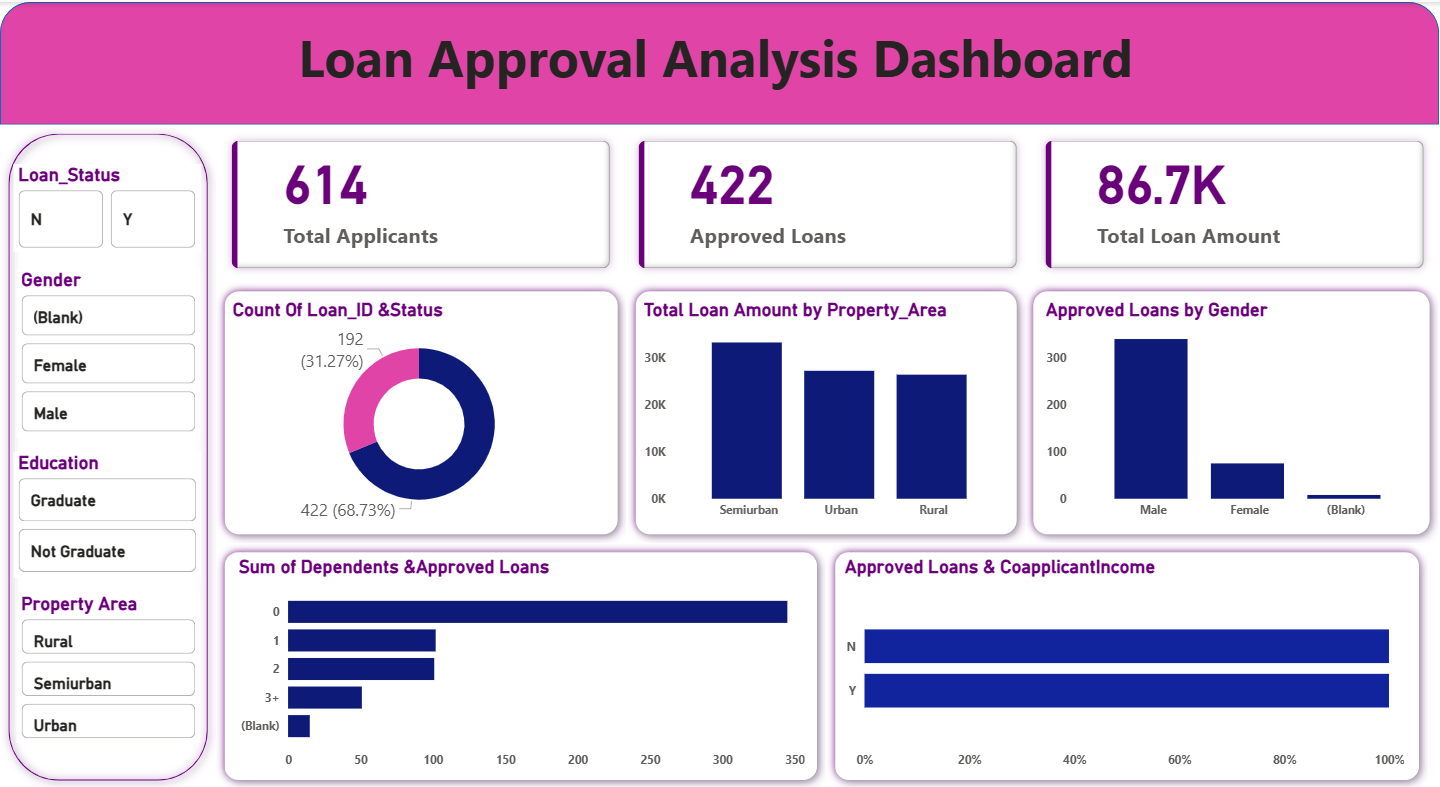

Layout of this report page (visuals, bound fields, positions):
{"tool":"powerbi","page":{"name":"Page 1","canvas":[1500,820],"ordinal":0},"visuals":[{"type":"cardVisual","fields":{"Data":["public train.Total Applicants","public train.Approved Loans","public train.Total Loan Amount"]},"box":[225.4,127.8,1274.1,165],"z":0},{"type":"shape","box":[0,0,1499.4,127.8],"z":1000},{"type":"textbox","box":[35.5,16,1419.6,94],"z":2000},{"type":"shape","box":[225.4,292.8,427.6,271.5],"z":3000},{"type":"donutChart","title":"Count Of Loan_ID &Status","fields":{"Category":["public train.Loan_Status"],"Y":["CountNonNull(public train.Loan_ID)"]},"box":[237.8,308.8,397.5,237.8],"z":4000},{"type":"shape","box":[653,292.8,415.2,271.5],"z":5000},{"type":"shape","box":[1068.2,292.8,431.2,271.5],"z":6000},{"type":"clusteredColumnChart","fields":{"Category":["public train.Gender"],"Y":["public train.Approved Loans"]},"box":[1084.2,308.8,402.8,237.8],"z":7000},{"type":"clusteredColumnChart","fields":{"Category":["public train.Property_Area"],"Y":["public train.Total Loan Amount"]},"box":[665.4,308.8,388.6,237.8],"z":8000},{"type":"shape","box":[0,127.8,225.4,692],"z":9000},{"type":"advancedSlicerVisual","fields":{"Values":["public train.Loan_Status"]},"box":[14.2,168.6,195.2,92.3],"z":10000},{"type":"advancedSlicerVisual","fields":{"Values":["public train.Gender"]},"box":[17.7,278.6,191.6,175.7],"z":11000},{"type":"advancedSlicerVisual","fields":{"Values":["public train.Education"]},"box":[14.2,468.5,195.2,131.3],"z":12000},{"type":"advancedSlicerVisual","title":"Property Area","fields":{"Values":["public train.Property_Area"]},"box":[17.7,615.7,191.6,156.2],"z":13000},{"type":"shape","box":[225.4,564.3,635.3,255.5],"z":14000},{"type":"clusteredBarChart","title":"Sum of Dependents &Approved Loans ","fields":{"Y":["public train.Total Applicants"],"Category":["public train.Dependents"]},"box":[243.1,576.7,599.8,230.7],"z":15000},{"type":"shape","box":[860.6,564.3,626.4,255.5],"z":16000},{"type":"hundredPercentStackedBarChart","title":"Approved Loans & CoapplicantIncome ","fields":{"Y":["public train.Approved Loans","Sum(public train.CoapplicantIncome)"],"Category":["public train.Loan_Status"]},"box":[874.8,576.7,592.7,230.7],"z":17000}]}

Visuals, with their boxes in screenshot pixels (x1, y1, x2, y2), scaled from the page's 1500x820 canvas onto the 1440x787 screenshot:
cardVisual - public train.Total Applicants x public train.Approved Loans: box=[216, 123, 1439, 281]
shape: box=[0, 0, 1439, 123]
textbox: box=[34, 15, 1397, 106]
shape: box=[216, 281, 627, 542]
"Count Of Loan_ID &Status" donutChart: box=[228, 296, 610, 525]
shape: box=[627, 281, 1025, 542]
shape: box=[1025, 281, 1439, 542]
clusteredColumnChart - public train.Gender x public train.Approved Loans: box=[1041, 296, 1428, 525]
clusteredColumnChart - public train.Property_Area x public train.Total Loan Amount: box=[639, 296, 1012, 525]
shape: box=[0, 123, 216, 786]
advancedSlicerVisual - public train.Loan_Status: box=[14, 162, 201, 250]
advancedSlicerVisual - public train.Gender: box=[17, 267, 201, 436]
advancedSlicerVisual - public train.Education: box=[14, 450, 201, 576]
"Property Area" advancedSlicerVisual: box=[17, 591, 201, 741]
shape: box=[216, 542, 826, 786]
"Sum of Dependents &Approved Loans " clusteredBarChart: box=[233, 553, 809, 775]
shape: box=[826, 542, 1428, 786]
"Approved Loans & CoapplicantIncome " hundredPercentStackedBarChart: box=[840, 553, 1409, 775]
